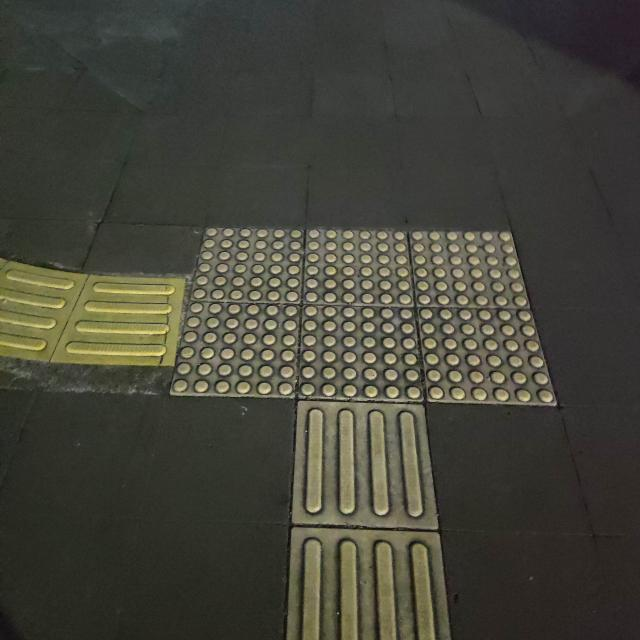kiri: (11, 227, 468, 533)
